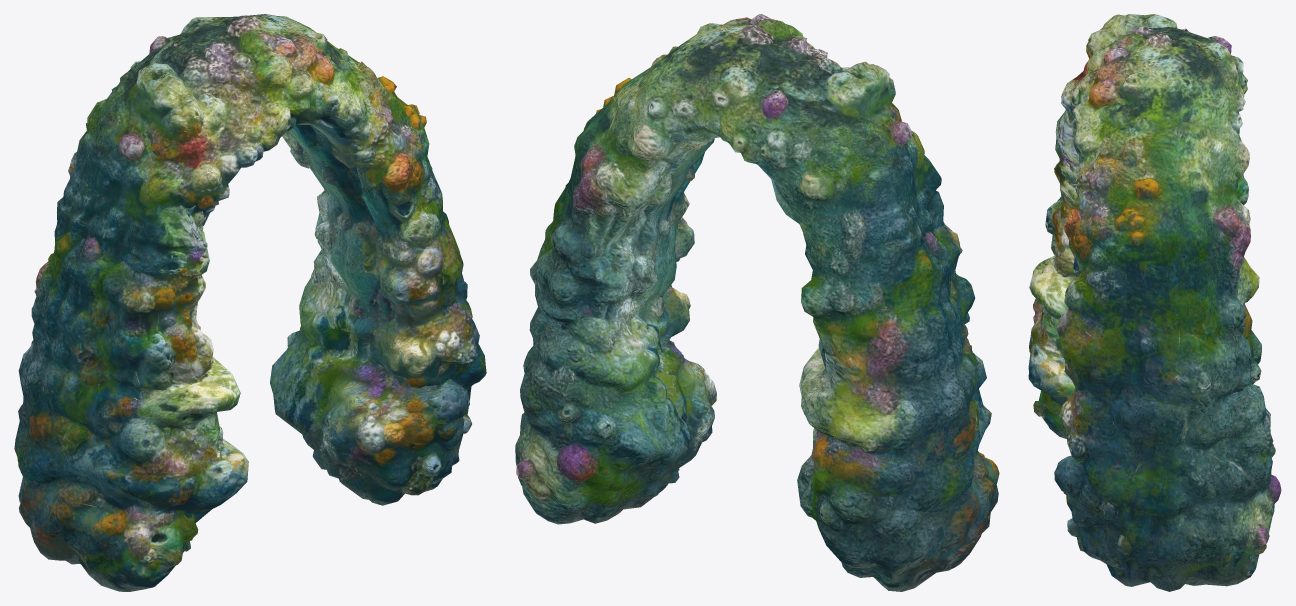
File: sunlit_coral_arch.glb
3 renders of one model, left to right at view 1: azimuth 30°, elevation 25°; view 2: azimuth 150°, elevation 25°; view 3: azimuth 270°, elevation 25°, orthographic. The views are drawn at different scales.
Visible parts, largest first — view 1: Mesh1.0; view 2: Mesh1.0; view 3: Mesh1.0.
Part boxes in pixels (bbox=[...]): Mesh1.0: bbox=[14, 14, 486, 591]; Mesh1.0: bbox=[515, 14, 999, 591]; Mesh1.0: bbox=[1028, 14, 1281, 591].
Bounding box in the file's own units: 1.72 × 1.91 × 0.9064.
1 material, 1 textured.
